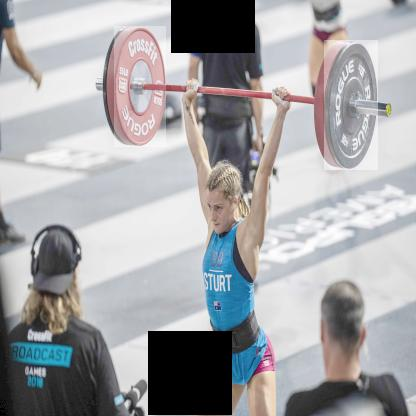barbell: (325, 41, 379, 171), (116, 27, 168, 148)
